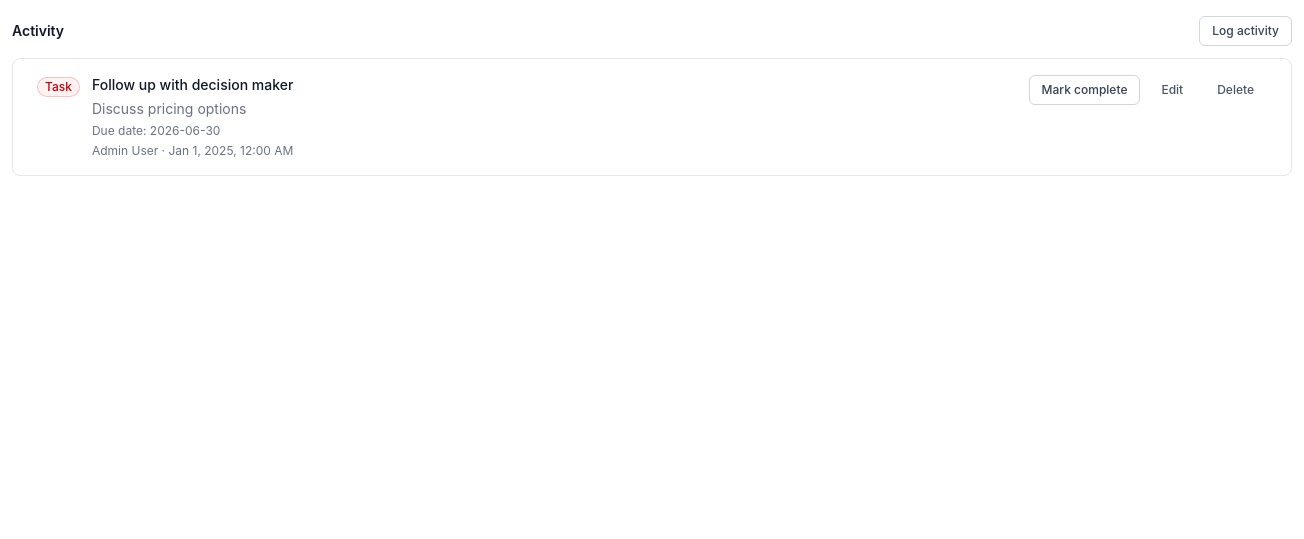
Test: ActivityTimeline › closes the create form when cancel is clicked
This screenshot has width=1304, height=539.
Click the button with test id "add-activity-button": (1246, 31) [1199,16,1292,46]
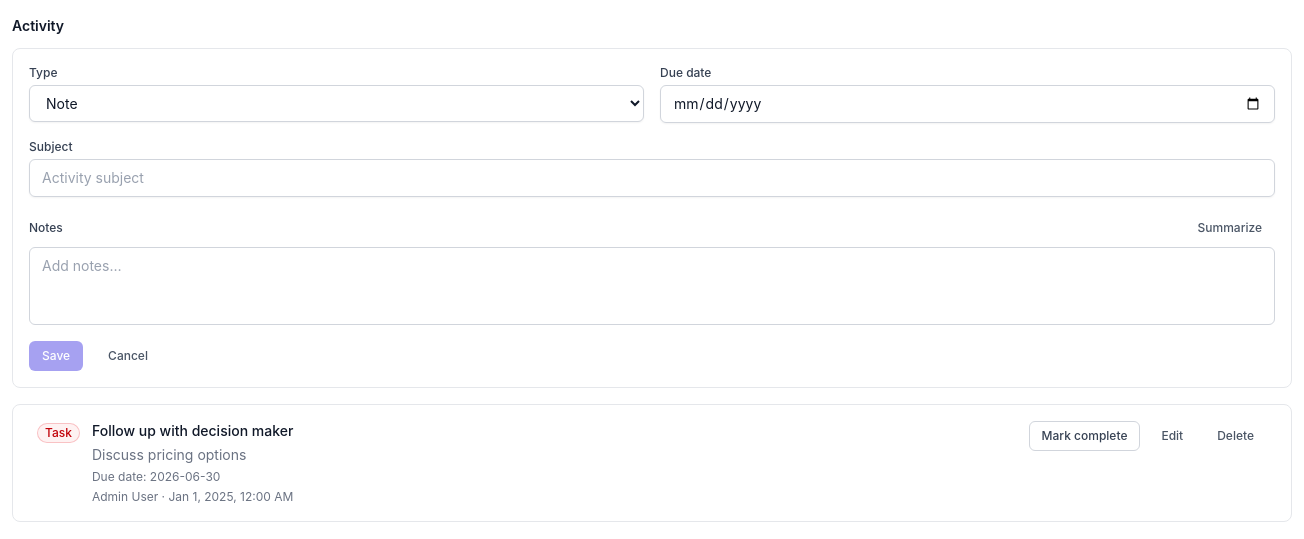
Now the element with test id "activity-create-form-container" is shown
Click the button with test id "activity-form-cancel": (128, 356) [95,341,161,371]
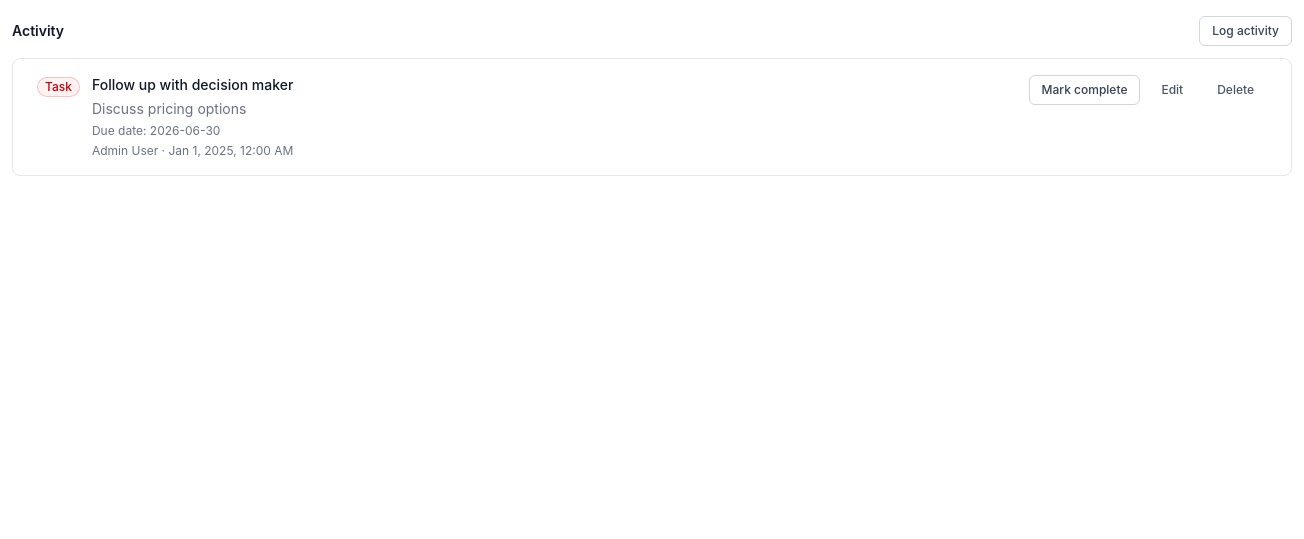
Now the element with test id "activity-create-form-container" is gone
